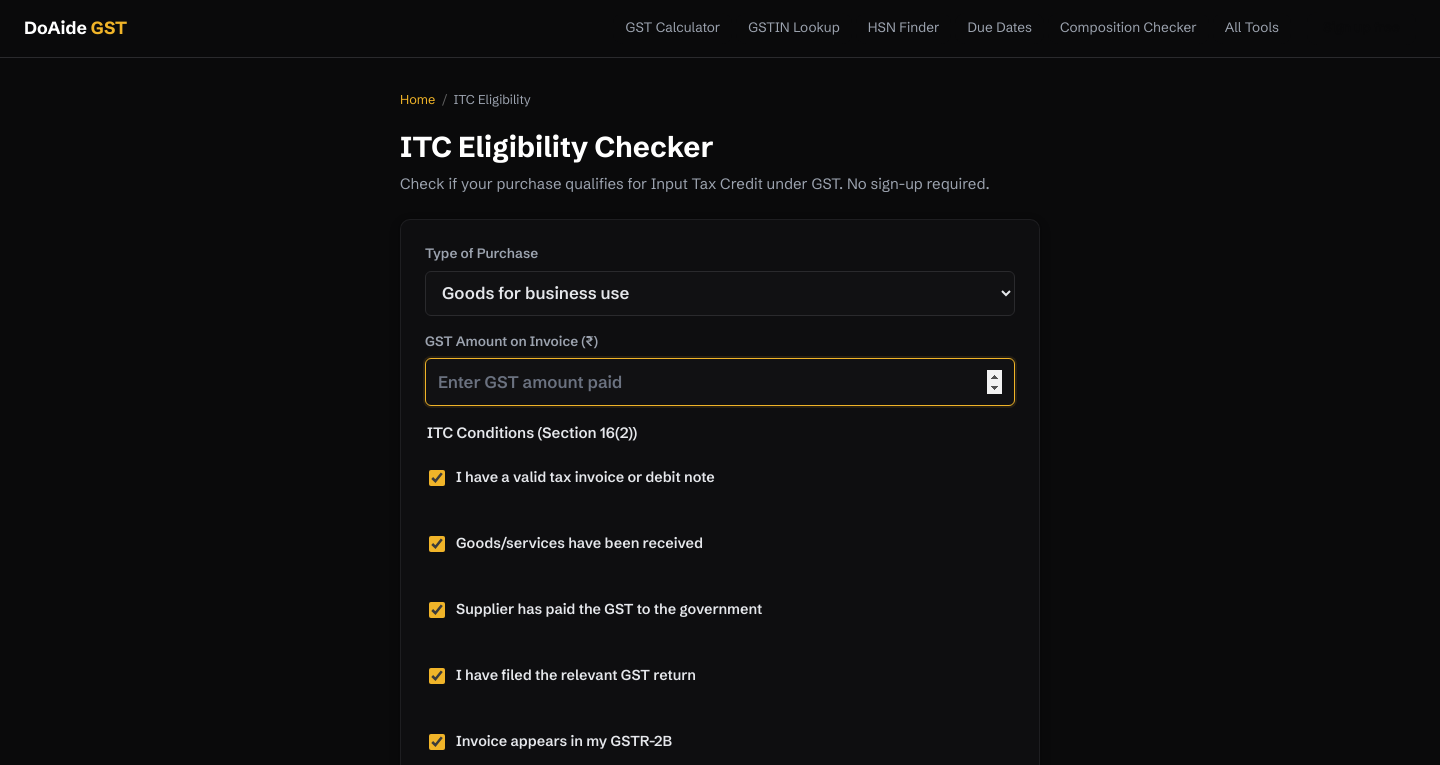
it: ItcEligibilityPage › shows blocked for personal use
The width and height of the screenshot is (1440, 765).
Select "Goods/services for personal use" in the dropdown labelled "Type of Purchase" at {"x": 720, "y": 293}, box x1=425 y1=271 x2=1015 y2=316
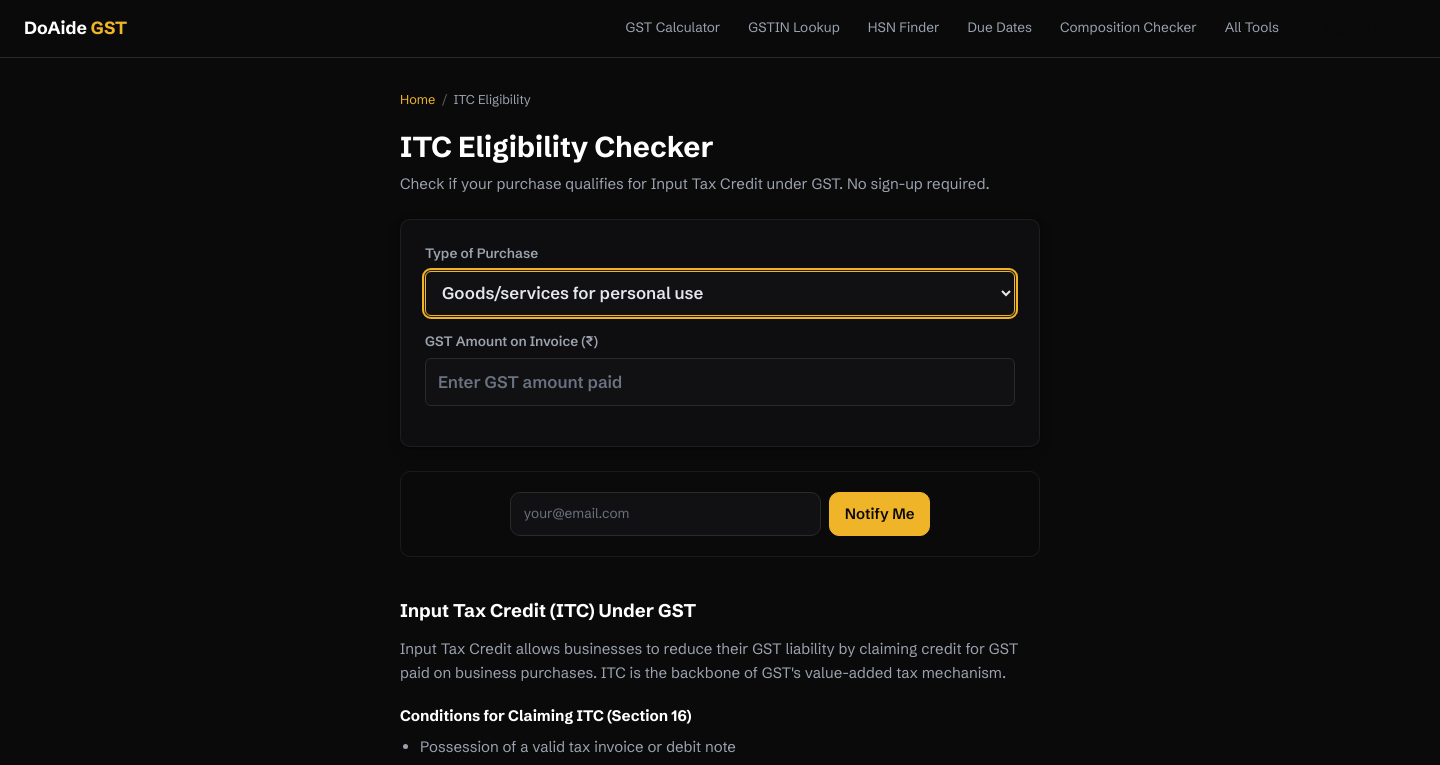
Type "5000" into the number field with placeholder "Enter GST amount paid" at {"x": 720, "y": 382}, box x1=425 y1=358 x2=1015 y2=406
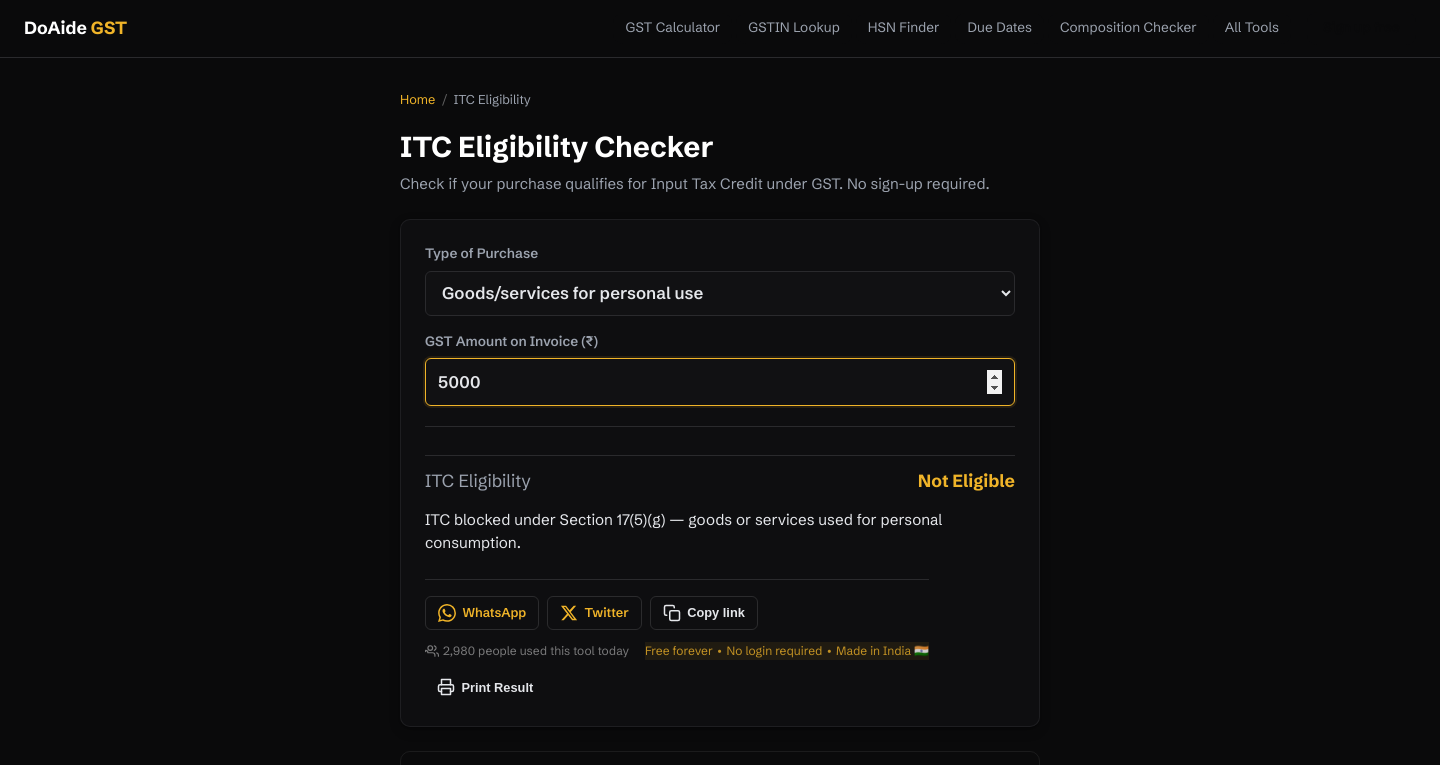
Result: the text "Not Eligible" is shown at x1=918 y1=468 x2=1015 y2=495
